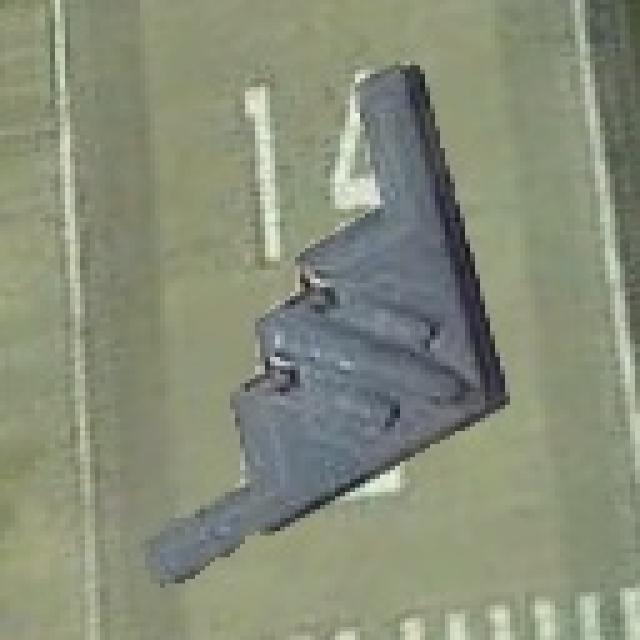B-2_TopDown: (135, 52, 515, 588)
